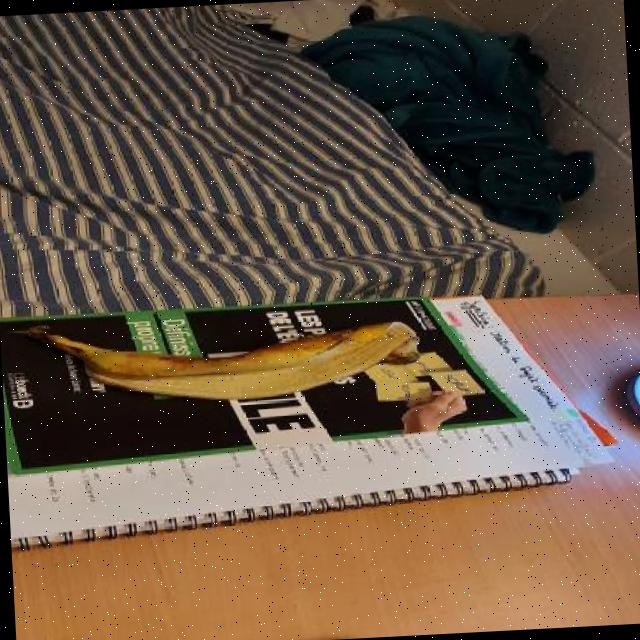banana-peel: (18, 303, 423, 413)
